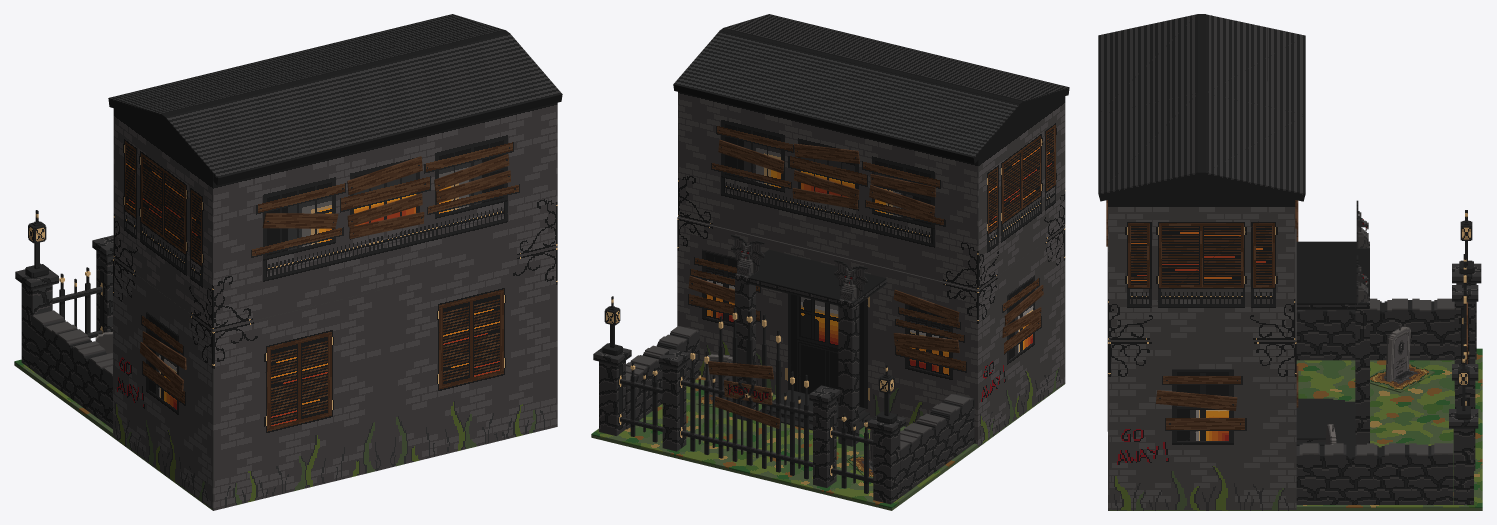
3 renders of one model, left to right at view 1: azimuth 30°, elevation 25°; view 2: azimuth 150°, elevation 25°; view 3: azimuth 270°, elevation 25°, orthographic. The views are drawn at different scales.
Parts seen in each view (by area): view 1: 2 piano 2-Local, pannello dt 2-Local, pannello dt-Local, 2 piano 1-Local, retro 2-Local, tetto dt 2-Local, tetto dt 1-Local, muretto lato 2-Local, cancello 2-Local, tetto dv 2-Local, tetto dv 1-Local, asse di legno 1 dt 2-Local (+6 smaller); view 2: 2 piano 2-Local, retro 2-Local, 2 piano 1-Local, retro-Local, tetto dv 2-Local, tetto dv 1-Local, cancello 1-Local, cancello 2-Local, scalinata-Local, base prato dv-Local, muretto lato 2-Local, base prato dv 2-Local (+17 smaller); view 3: retro-Local, 2 piano 1-Local, muretto lato-Local, scalinata-Local, tetto dt 1-Local, tetto dv 1-Local, tetto dt 2-Local, tetto dv 2-Local, muretto lato 2-Local, base prato dv 2-Local, cancello 1-Local, base prato dv-Local (+7 smaller).
Boxes of the visible parts, x1=… form: 2 piano 2-Local: x1=113, y1=67, x2=385, y2=330; pannello dt 2-Local: x1=212, y1=289, x2=385, y2=510; pannello dt-Local: x1=385, y1=247, x2=557, y2=468; 2 piano 1-Local: x1=317, y1=25, x2=557, y2=288; retro 2-Local: x1=113, y1=257, x2=212, y2=509; tetto dt 2-Local: x1=165, y1=75, x2=390, y2=185; tetto dt 1-Local: x1=338, y1=33, x2=562, y2=143; muretto lato 2-Local: x1=32, y1=310, x2=112, y2=428; cancello 2-Local: x1=15, y1=210, x2=113, y2=369; tetto dv 2-Local: x1=108, y1=56, x2=332, y2=114; tetto dv 1-Local: x1=281, y1=14, x2=504, y2=71; asse di legno 1 dt 2-Local: x1=262, y1=213, x2=338, y2=228; 2 piano 2-Local: x1=828, y1=65, x2=1065, y2=290; retro 2-Local: x1=827, y1=227, x2=1064, y2=447; 2 piano 1-Local: x1=678, y1=28, x2=873, y2=253; retro-Local: x1=677, y1=217, x2=827, y2=394; tetto dv 2-Local: x1=823, y1=67, x2=1019, y2=163; tetto dv 1-Local: x1=673, y1=31, x2=868, y2=127; cancello 1-Local: x1=593, y1=296, x2=749, y2=464; cancello 2-Local: x1=749, y1=310, x2=905, y2=504; scalinata-Local: x1=735, y1=250, x2=886, y2=446; base prato dv-Local: x1=591, y1=377, x2=798, y2=474; muretto lato 2-Local: x1=900, y1=394, x2=974, y2=497; base prato dv 2-Local: x1=741, y1=426, x2=977, y2=510; retro-Local: x1=1109, y1=262, x2=1296, y2=510; 2 piano 1-Local: x1=1108, y1=93, x2=1295, y2=340; muretto lato-Local: x1=1296, y1=443, x2=1453, y2=504; scalinata-Local: x1=1296, y1=241, x2=1369, y2=448; tetto dt 1-Local: x1=1098, y1=93, x2=1199, y2=201; tetto dv 1-Local: x1=1204, y1=93, x2=1305, y2=201; tetto dt 2-Local: x1=1098, y1=14, x2=1197, y2=114; tetto dv 2-Local: x1=1206, y1=14, x2=1305, y2=114; muretto lato 2-Local: x1=1296, y1=298, x2=1454, y2=360; base prato dv 2-Local: x1=1296, y1=348, x2=1482, y2=427; cancello 1-Local: x1=1449, y1=262, x2=1478, y2=504; base prato dv-Local: x1=1296, y1=427, x2=1482, y2=510.
Bounding box in the file's own units: 258 × 255 × 262.
Materials: 45 (45 with a texture image).
